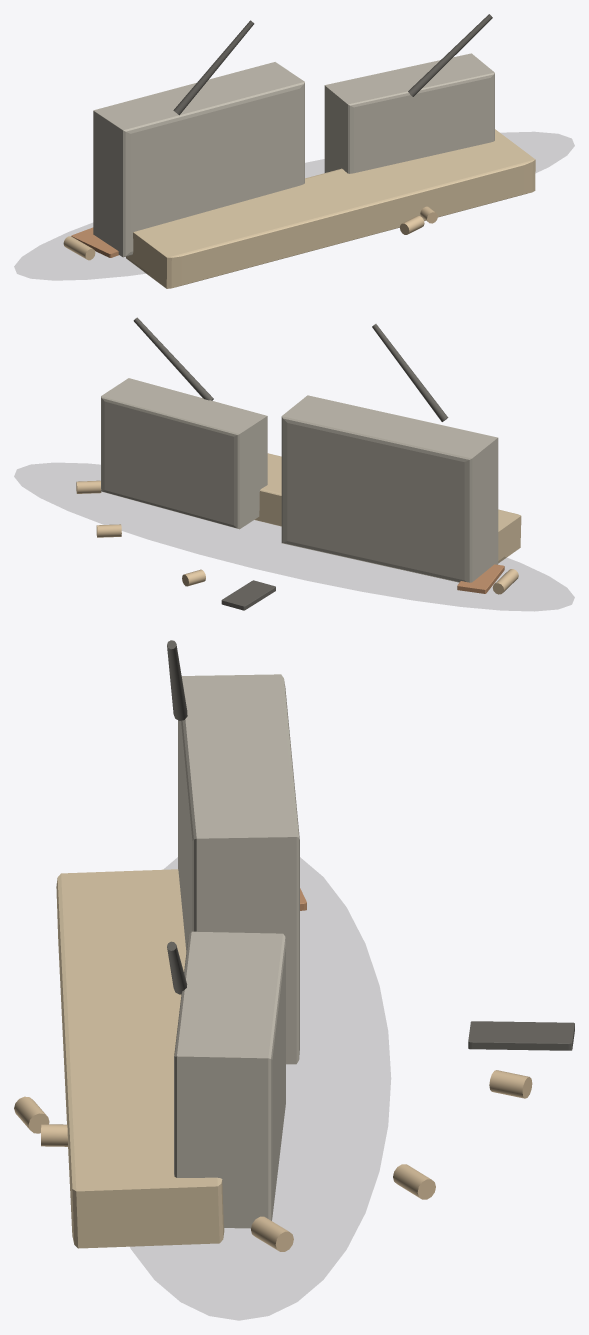
Rendered from low_ruined_wall.glb.
3 renders of one model, top to bottom at view 1: azimuth 30°, elevation 25°; view 2: azimuth 150°, elevation 25°; view 3: azimuth 270°, elevation 25°, orthographic. The views are drawn at different scales.
Parts seen in each view (by area): view 1: broken_low_wall_left, rubble_base, broken_low_wall_right, painted_contact_shadow, low_wall_rebar_a, low_wall_rebar_b, loose_scrap_flake_6, discarded_bolt_detail_7; view 2: broken_low_wall_left, broken_low_wall_right, painted_contact_shadow, rubble_base, loose_scrap_flake_1, low_wall_rebar_a, low_wall_rebar_b, loose_scrap_flake_6; view 3: rubble_base, painted_contact_shadow, broken_low_wall_left, broken_low_wall_right, loose_scrap_flake_1, low_wall_rebar_a, discarded_bolt_detail_0, discarded_bolt_detail_5, discarded_bolt_detail_4.
Part boxes in pixels (x1=…): broken_low_wall_left: x1=93, y1=62, x2=304, y2=257; rubble_base: x1=126, y1=129, x2=535, y2=288; broken_low_wall_right: x1=324, y1=53, x2=494, y2=173; painted_contact_shadow: x1=14, y1=132, x2=574, y2=279; low_wall_rebar_a: x1=173, y1=20, x2=254, y2=115; low_wall_rebar_b: x1=408, y1=14, x2=492, y2=96; loose_scrap_flake_6: x1=71, y1=227, x2=118, y2=257; discarded_bolt_detail_7: x1=63, y1=236, x2=95, y2=260; broken_low_wall_left: x1=281, y1=395, x2=498, y2=582; broken_low_wall_right: x1=101, y1=378, x2=267, y2=529; painted_contact_shadow: x1=14, y1=463, x2=574, y2=610; rubble_base: x1=254, y1=453, x2=521, y2=563; loose_scrap_flake_1: x1=221, y1=580, x2=275, y2=610; low_wall_rebar_a: x1=372, y1=324, x2=448, y2=421; low_wall_rebar_b: x1=133, y1=317, x2=213, y2=400; loose_scrap_flake_6: x1=457, y1=564, x2=504, y2=593; rubble_base: x1=56, y1=869, x2=224, y2=1248; painted_contact_shadow: x1=130, y1=858, x2=390, y2=1319; broken_low_wall_left: x1=178, y1=674, x2=299, y2=1064; broken_low_wall_right: x1=174, y1=931, x2=285, y2=1228; loose_scrap_flake_1: x1=468, y1=1021, x2=574, y2=1050; low_wall_rebar_a: x1=167, y1=640, x2=187, y2=720; discarded_bolt_detail_0: x1=251, y1=1216, x2=293, y2=1251; discarded_bolt_detail_5: x1=393, y1=1164, x2=435, y2=1199; discarded_bolt_detail_4: x1=489, y1=1070, x2=532, y2=1098.
Bounding box in the file's own units: 2.56 × 0.9614 × 1.25.
